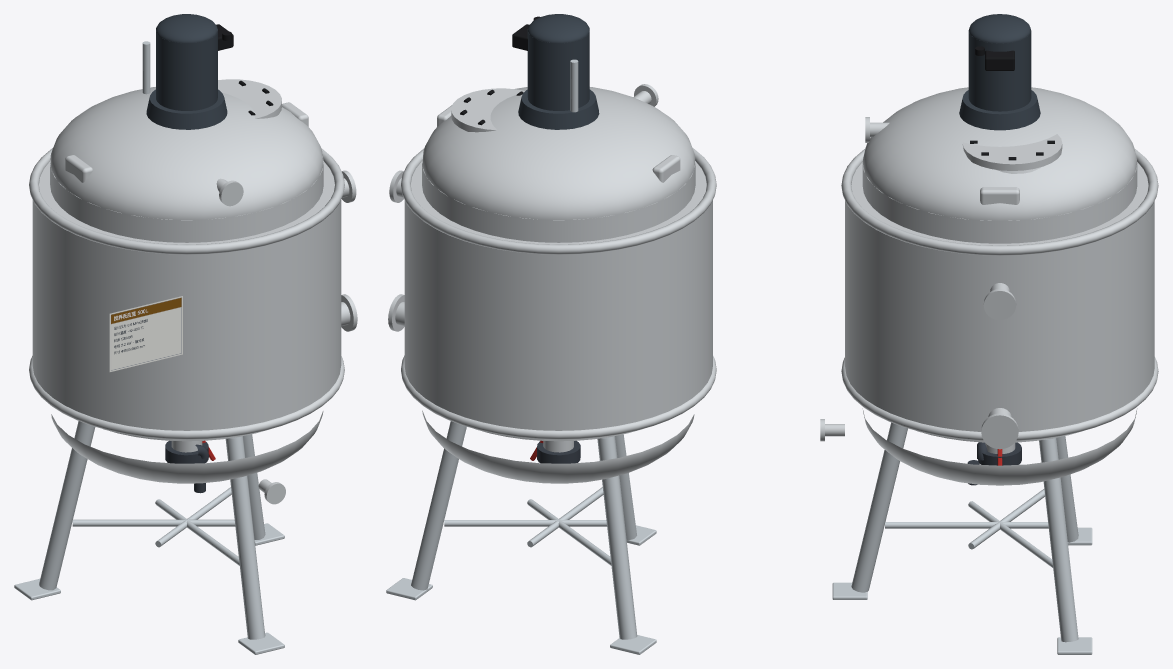
The model's file is reactor.glb.
The picture shows the model from 3 angles, left to right: view 1: azimuth 30°, elevation 25°; view 2: azimuth 150°, elevation 25°; view 3: azimuth 270°, elevation 25°; orthographic projection.
Visible parts, largest first — view 1: jacket, 搅拌反应釜, top_head, motor, gearbox; view 2: jacket, 搅拌反应釜, top_head, motor, gearbox; view 3: jacket, 搅拌反应釜, top_head, motor, gearbox.
Part boxes in pixels (x1,y1,x2,y2): jacket: (32,161,341,430); 搅拌反应釜: (14,14,357,654); top_head: (50,87,323,220); motor: (156,29,217,110); gearbox: (146,89,227,129); jacket: (404,161,712,430); 搅拌反应釜: (386,14,716,654); top_head: (422,87,695,220); motor: (527,29,589,110); gearbox: (518,89,599,129); jacket: (845,162,1154,431); 搅拌反应釜: (820,14,1158,654); top_head: (862,87,1137,220); motor: (968,31,1031,111); gearbox: (959,90,1040,130).
Size of the model in its own units: 1.47 by 2.53 by 1.35.
8 materials, 1 textured.
